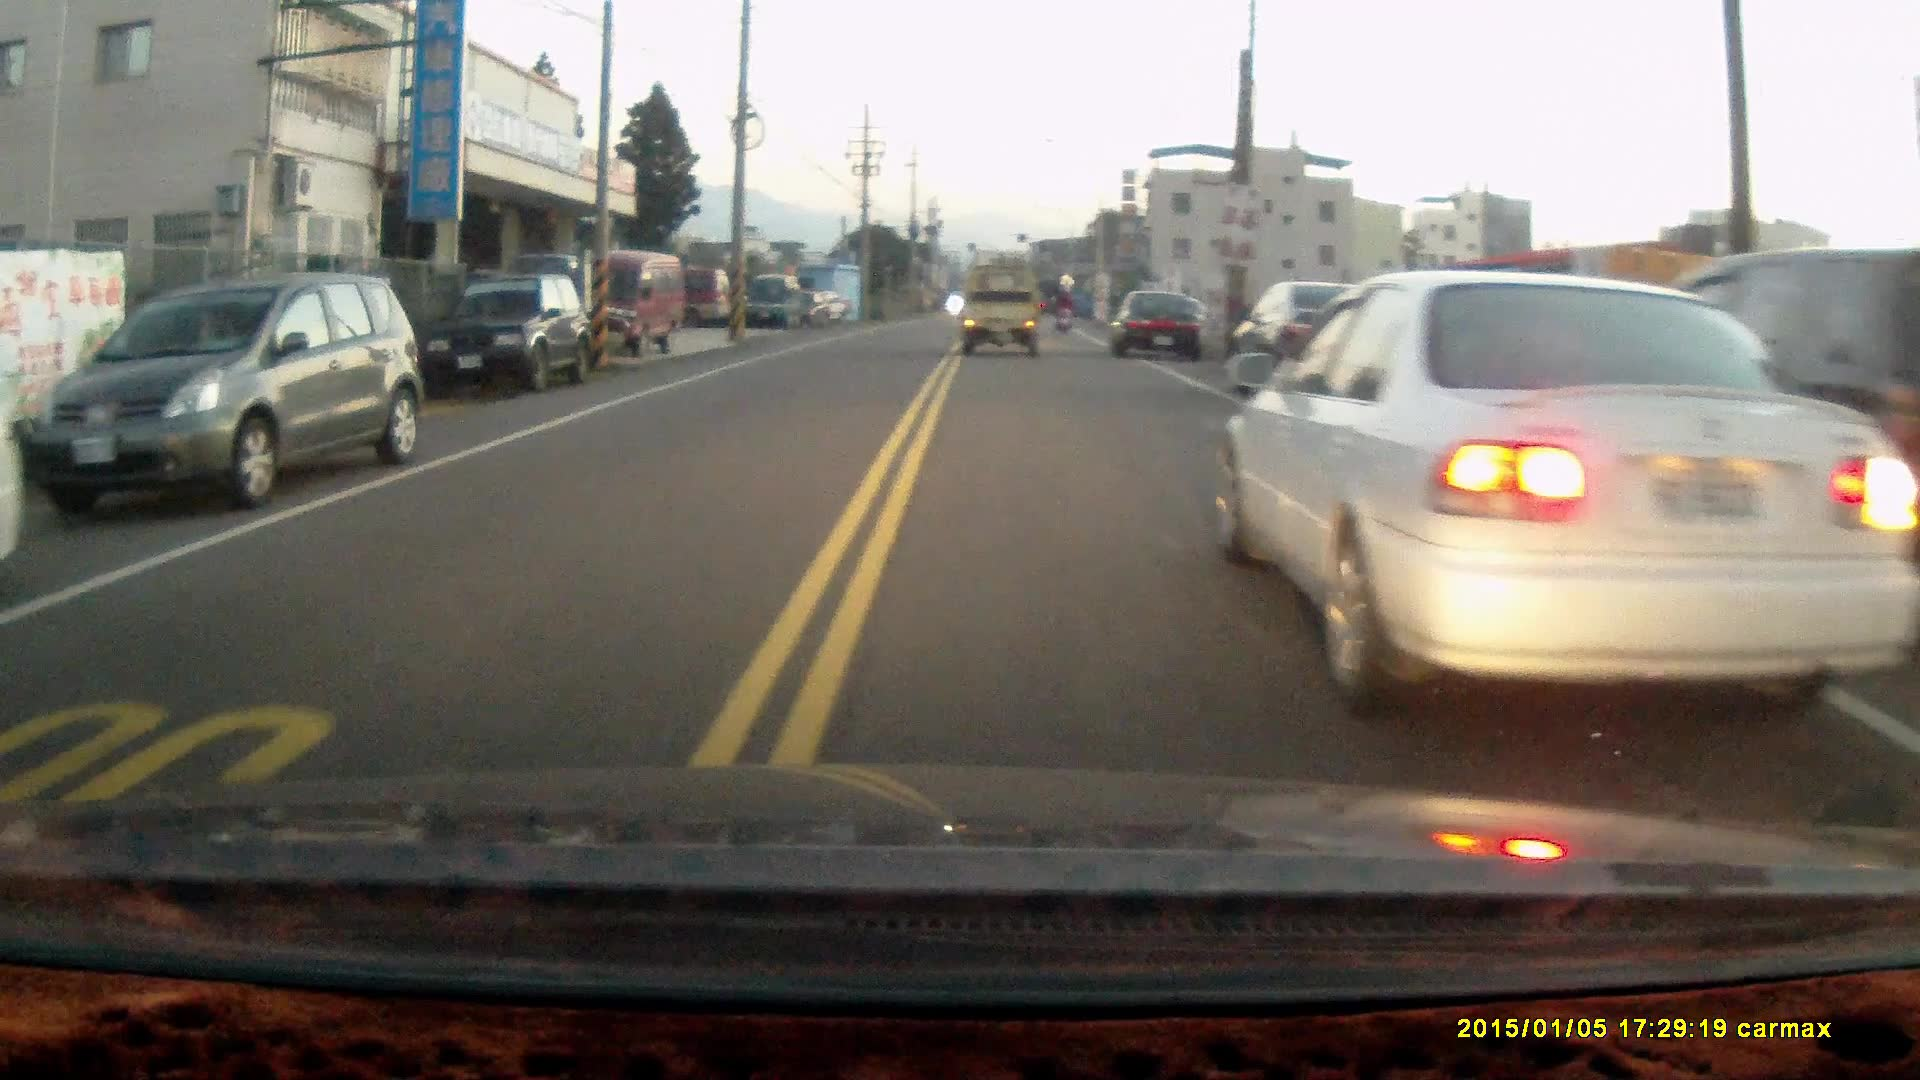rider: (1050, 286, 1077, 334)
vehicle: (1204, 268, 1914, 728), (1496, 250, 1920, 608), (27, 270, 416, 509), (1231, 278, 1404, 398), (435, 271, 594, 396), (566, 252, 690, 356), (958, 271, 1043, 358), (1107, 290, 1207, 362), (744, 273, 806, 332)
